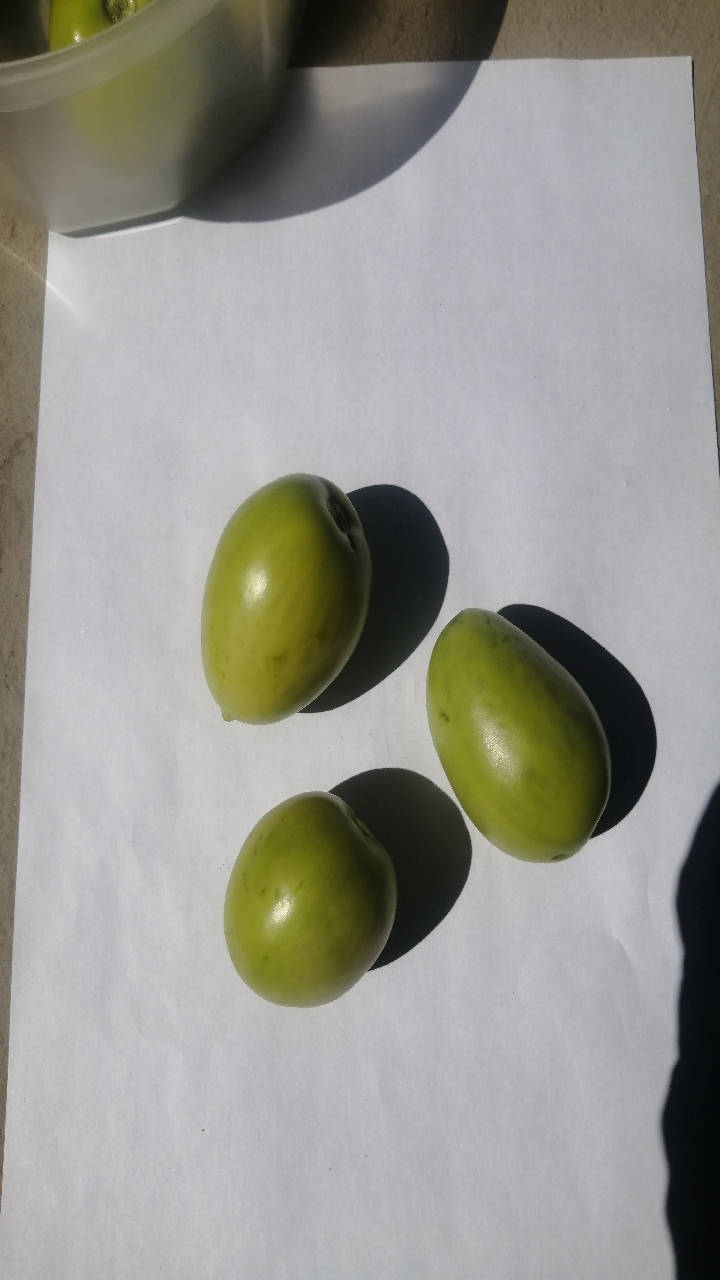tomateVerde: (164, 454, 389, 749), (408, 591, 623, 872), (214, 766, 415, 1034)
